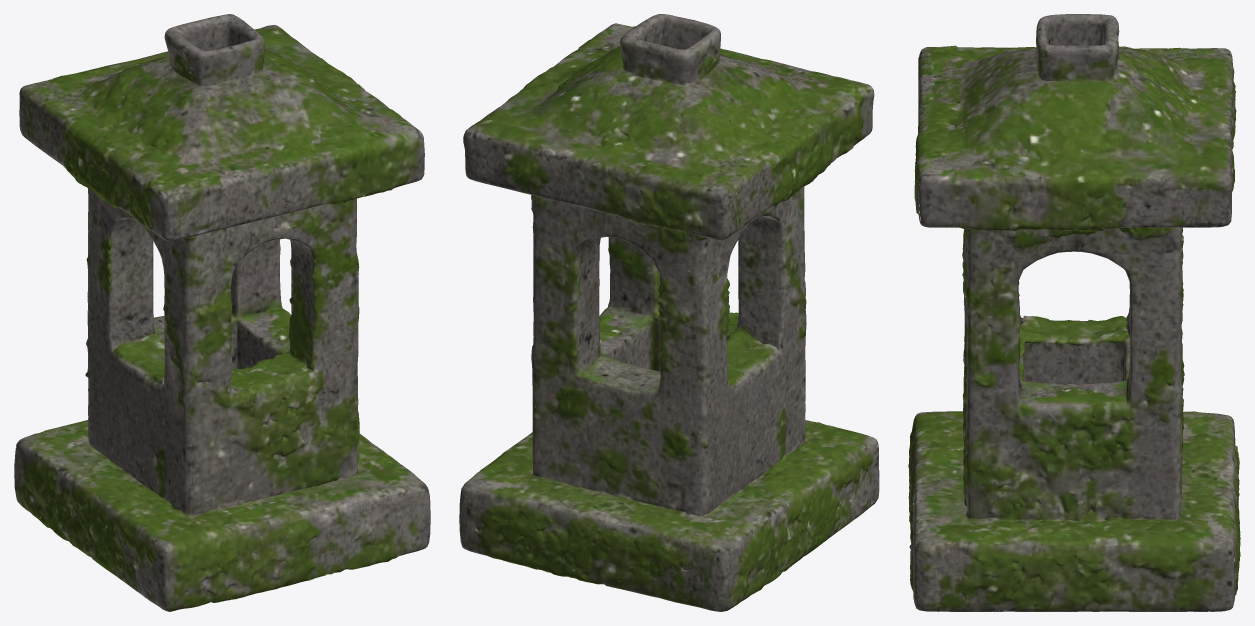
Rendered from stone-lantern.glb.
3 renders of one model, left to right at view 1: azimuth 30°, elevation 25°; view 2: azimuth 150°, elevation 25°; view 3: azimuth 270°, elevation 25°, orthographic. The views are drawn at different scales.
Visible parts, largest first — view 1: Mesh_0; view 2: Mesh_0; view 3: Mesh_0.
Boxes of the visible parts, x1,y1,x2,y2 form: Mesh_0: [14, 14, 430, 611]; Mesh_0: [459, 14, 879, 611]; Mesh_0: [908, 14, 1240, 611].
Size of the model in its own units: 0.5833 by 1 by 0.5852.
Materials: 1 (1 with a texture image).
